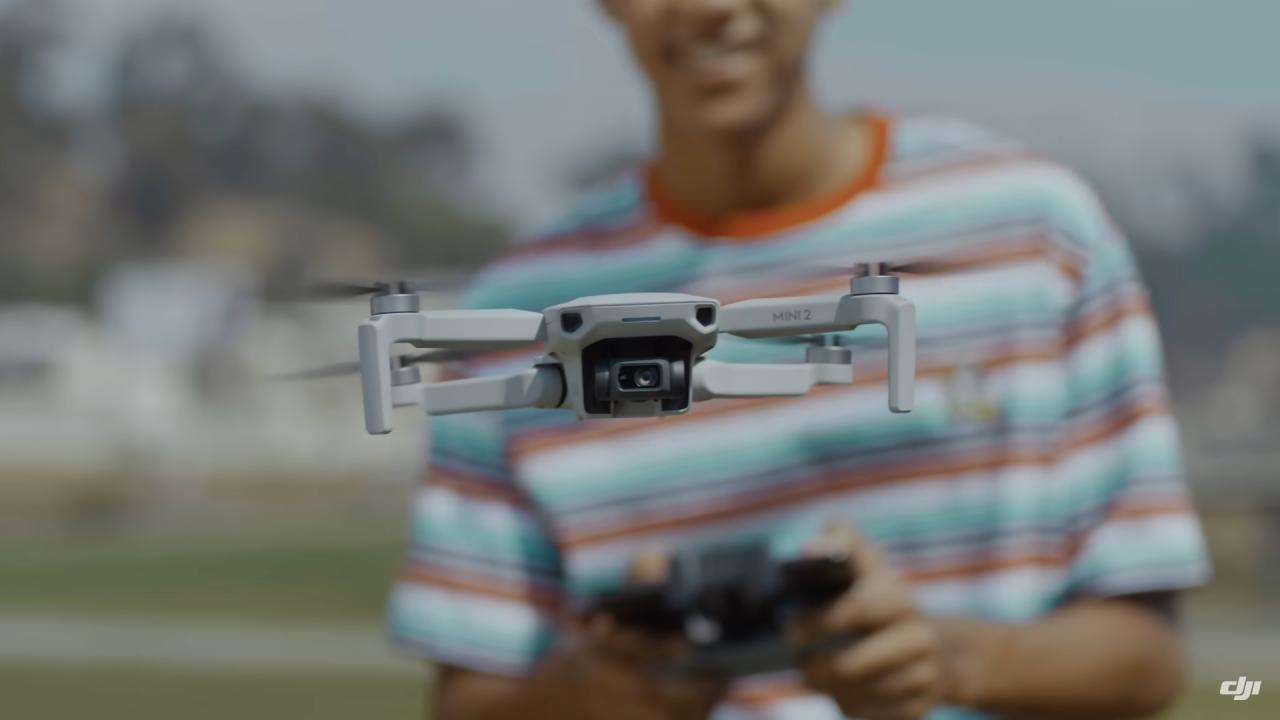Drone: (249, 240, 958, 449)
